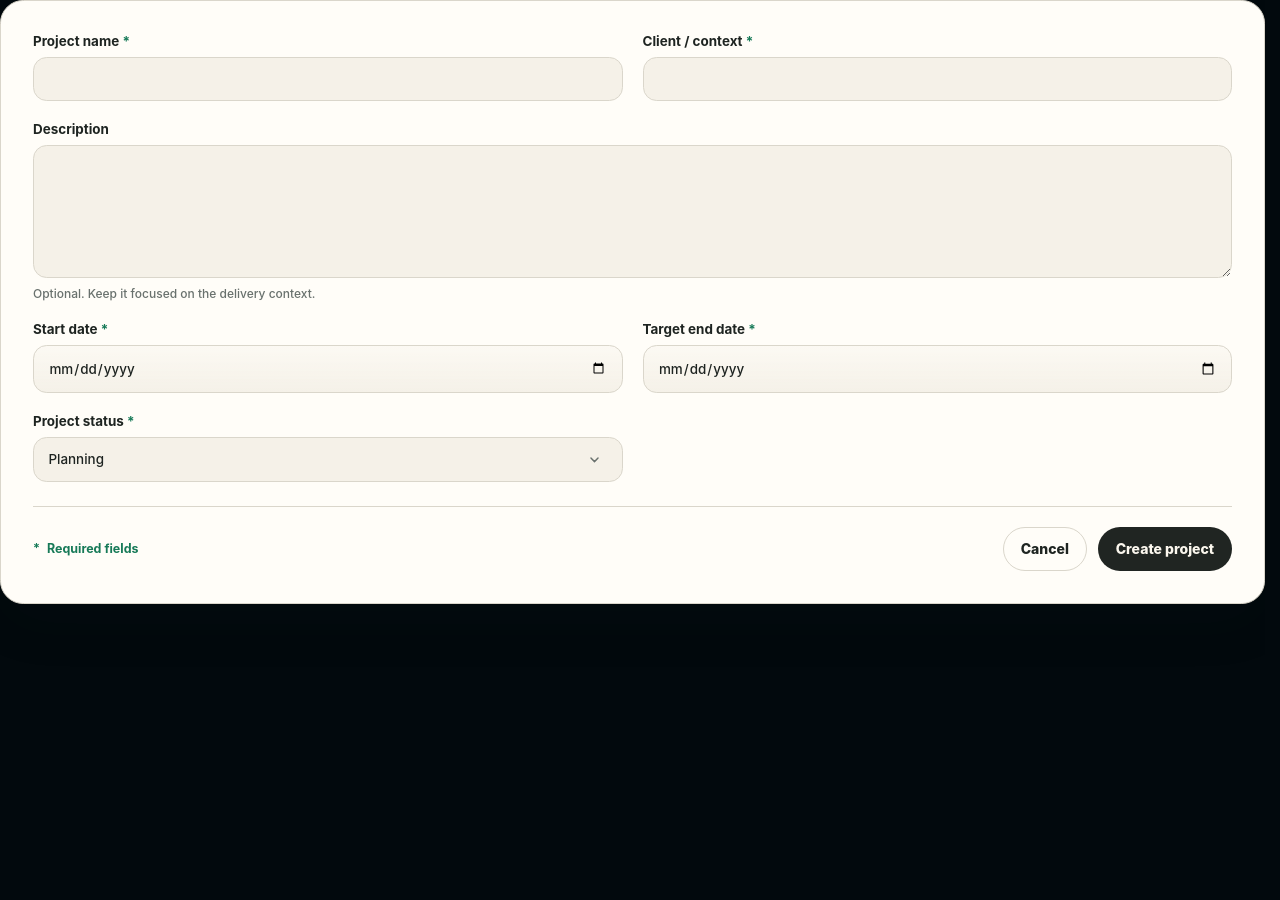
Test case: requires at least two characters for project identity fields
Type "A" into the field labelled "Project name *". click: (328, 79)
box: [33, 57, 622, 101]
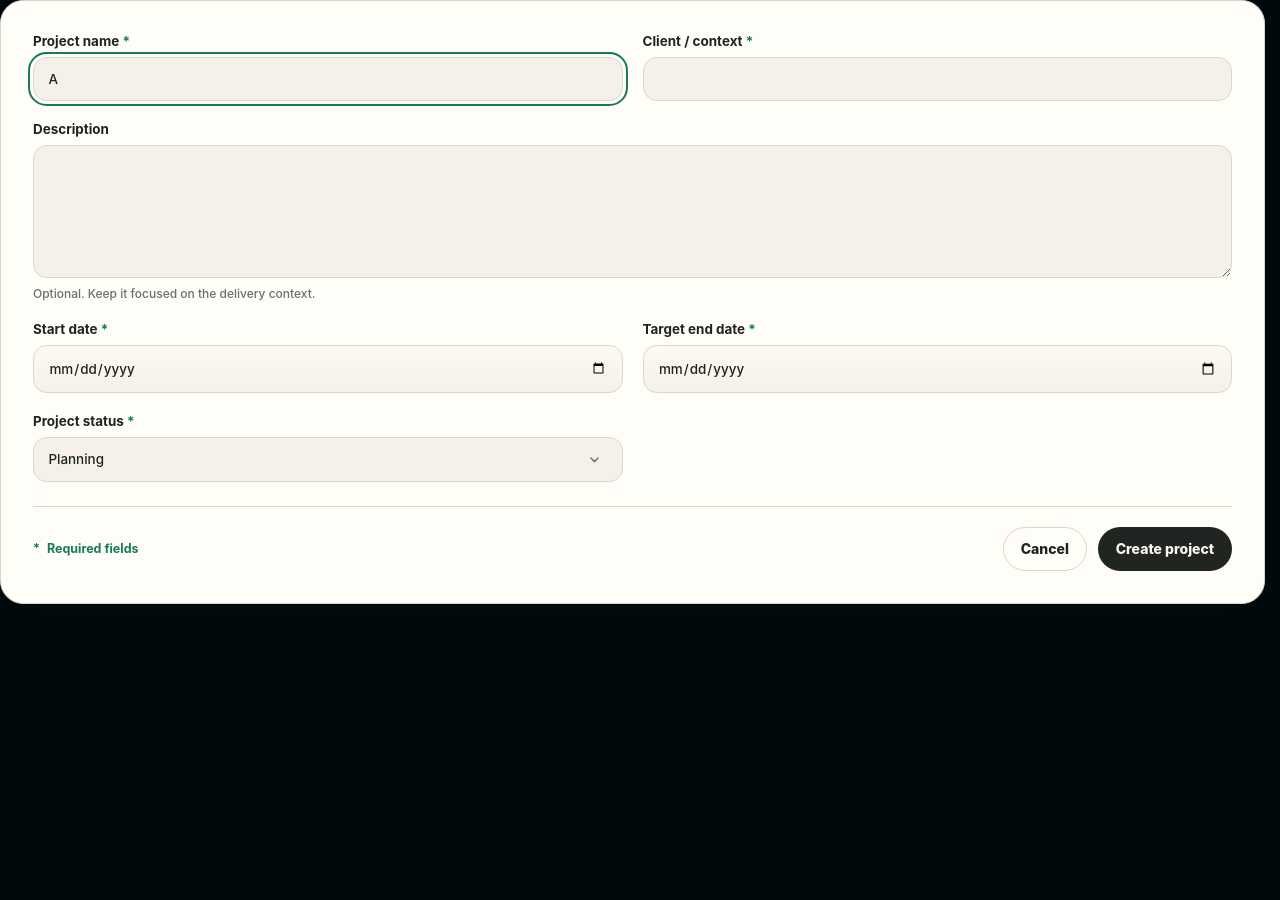
Type "B" into the field labelled "Client / context *". click: (937, 79)
box: [642, 57, 1232, 101]
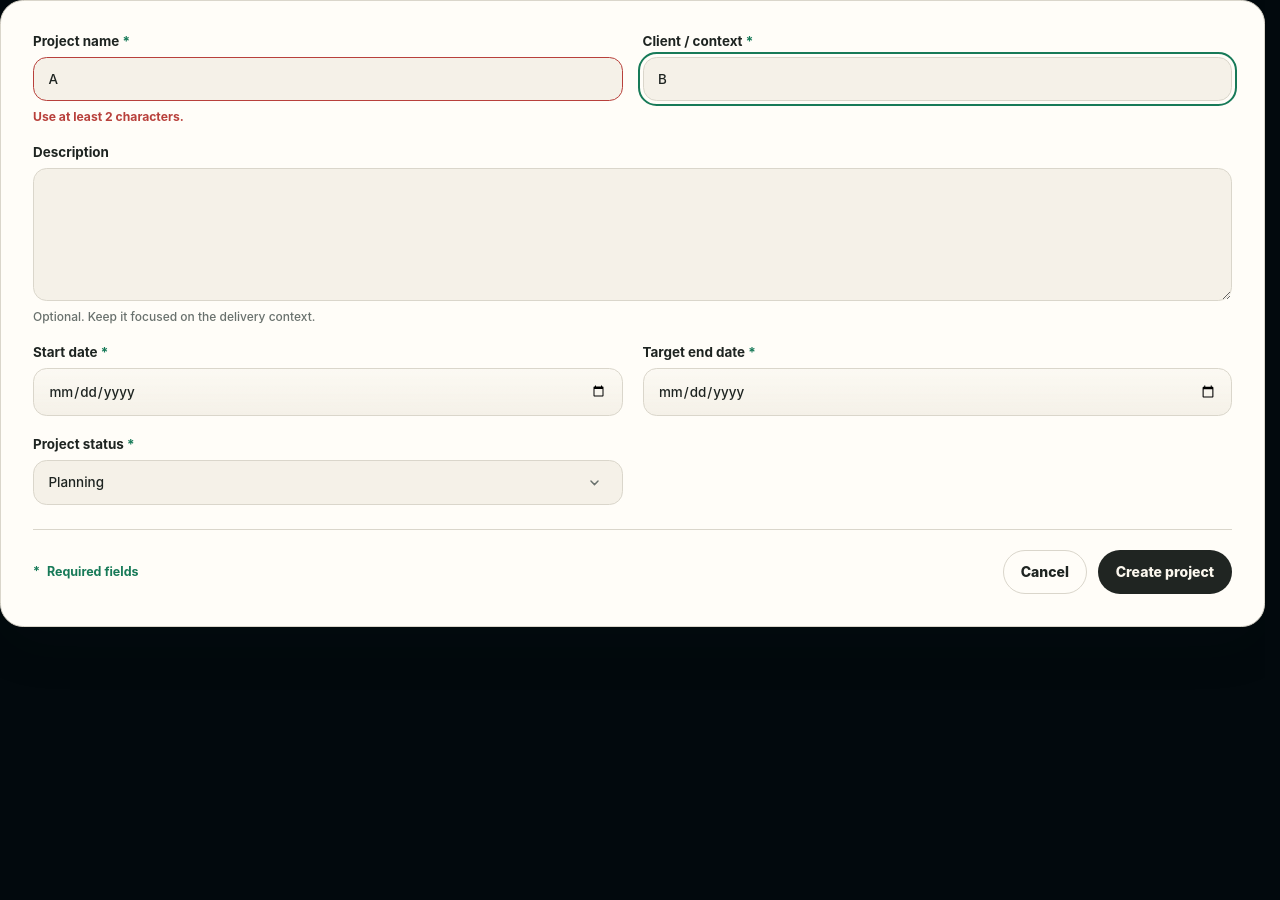
Type "2026-10-10" into the date field labelled "Start date *". click: (328, 392)
box: [33, 368, 622, 416]
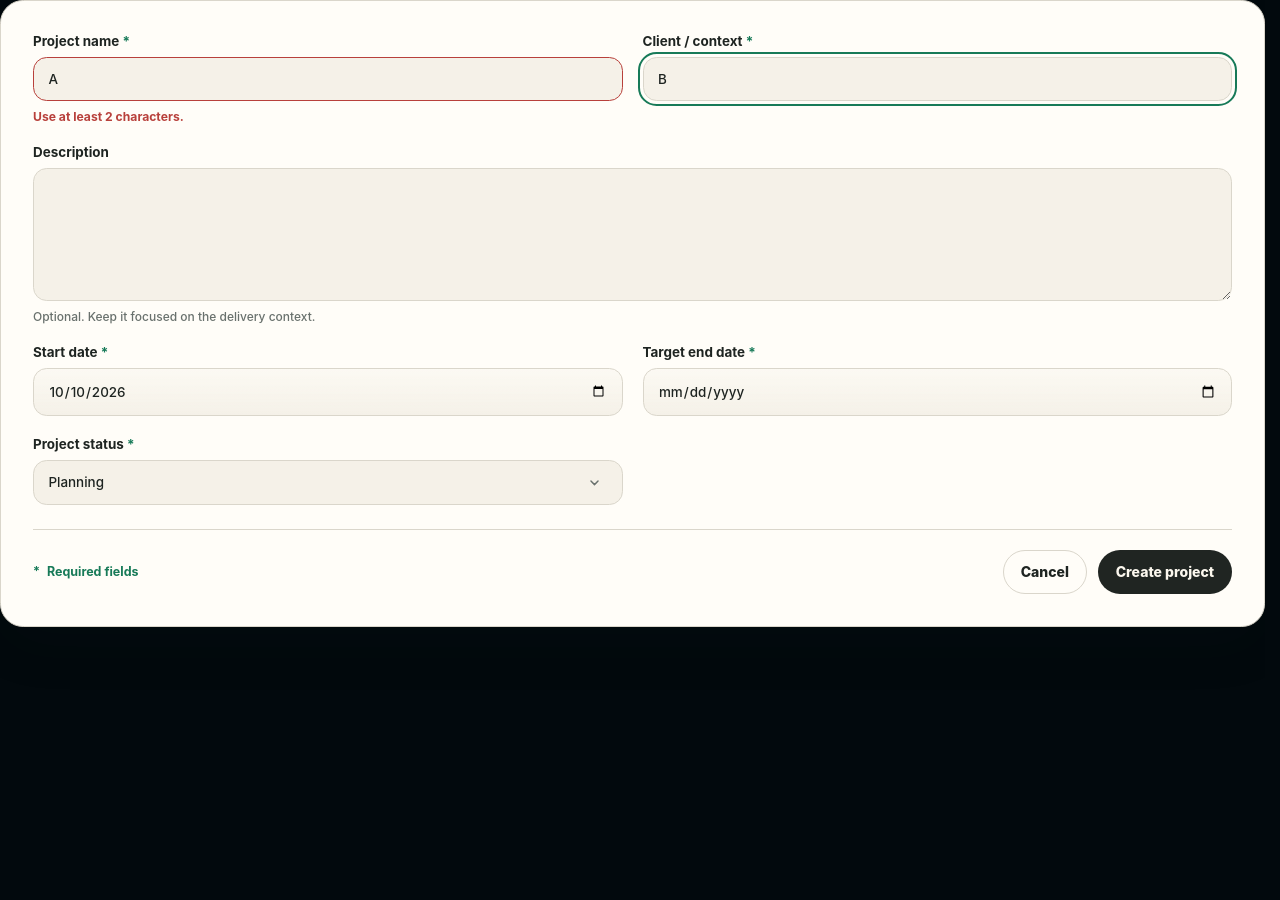
Type "2026-10-11" into the date field labelled "Target end date *". click: (937, 392)
box: [642, 368, 1232, 416]
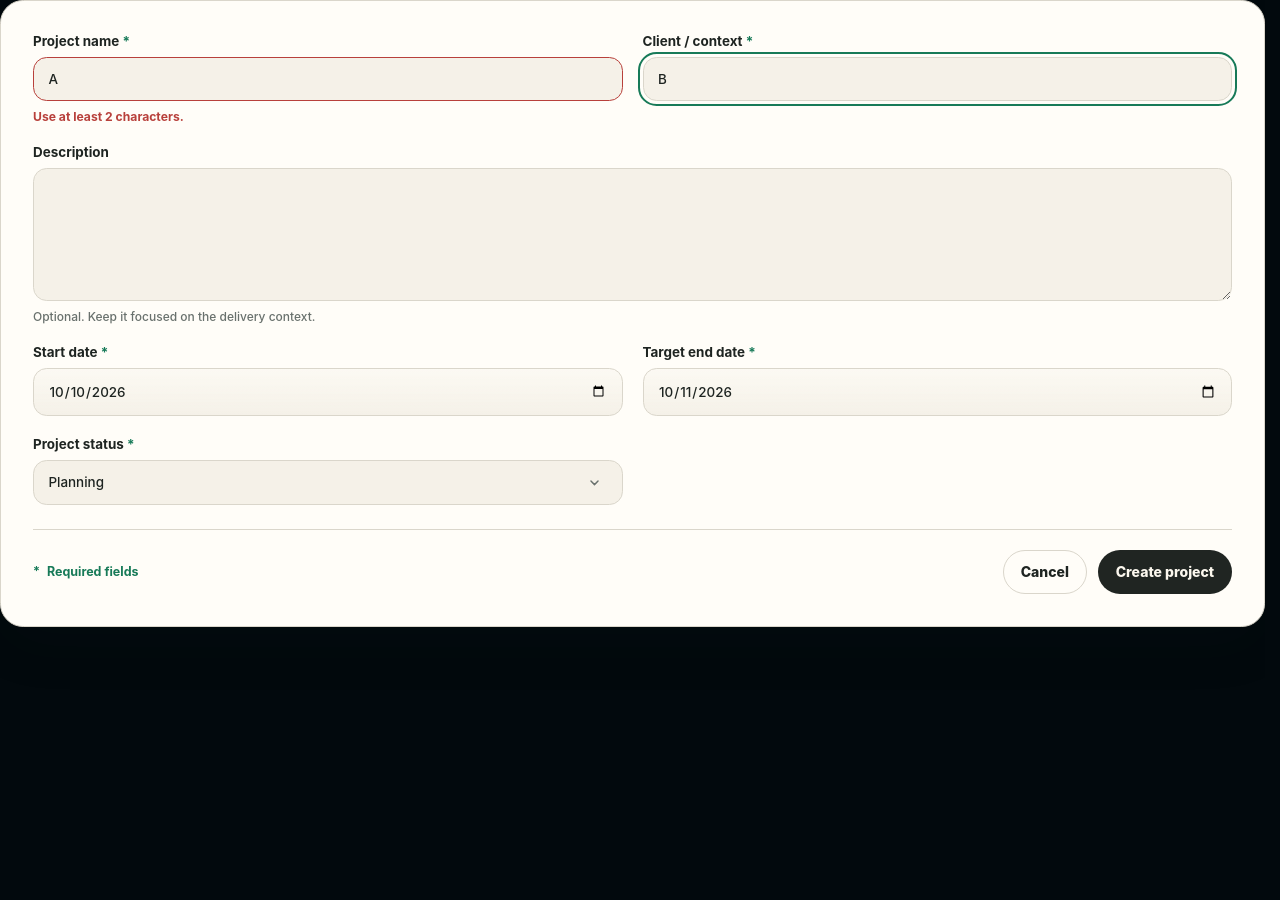
Click the button "Create project". click: (1165, 572)
box: [1098, 550, 1232, 594]
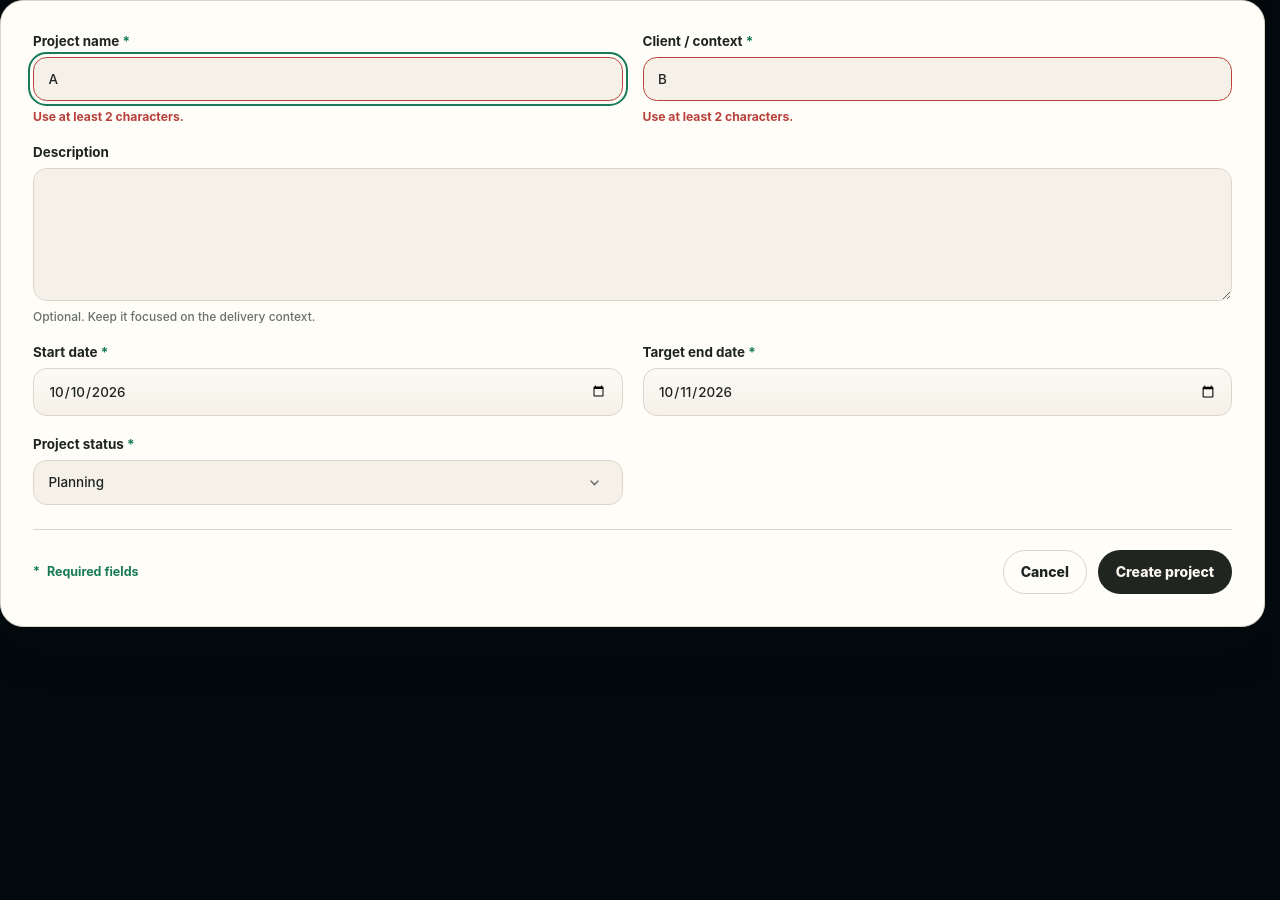
Expected: the text "Use at least 2 characters." is shown 2 times, [33, 109, 184, 124]; [642, 109, 793, 124]
